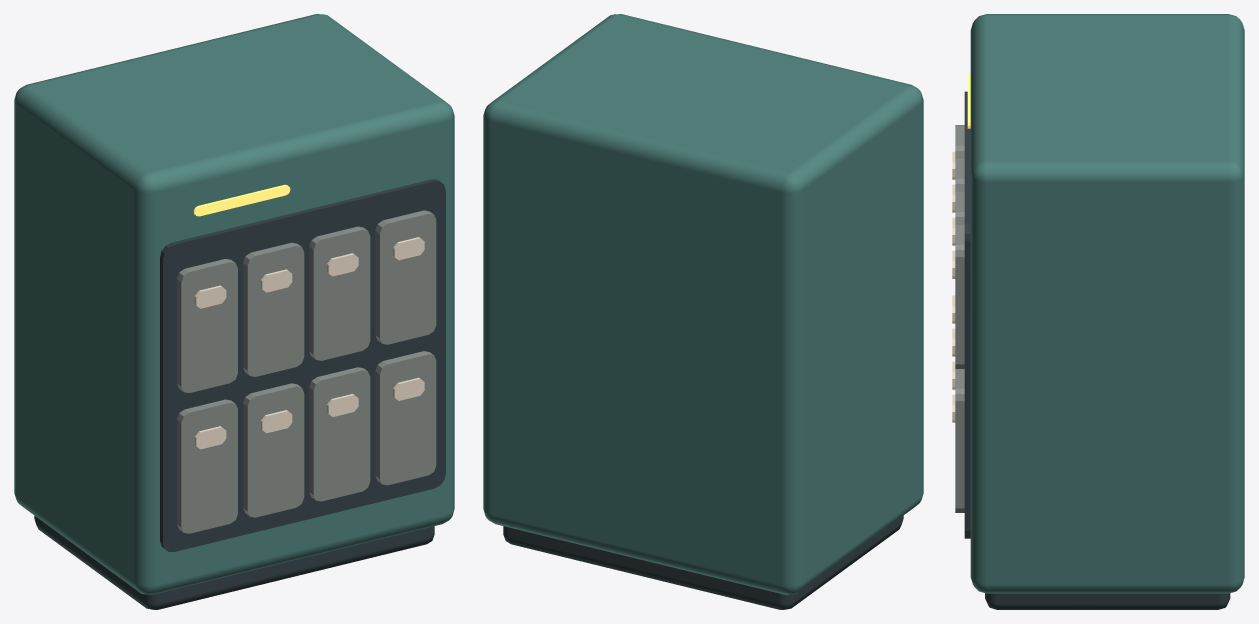
The model's file is kit_storage_array_v1.glb.
3 views of the same model, side by side, from view 1: azimuth 30°, elevation 25°; view 2: azimuth 150°, elevation 25°; view 3: azimuth 270°, elevation 25° (orthographic). The views are drawn at different scales.
Parts seen in each view (by area): view 1: body, status_led; view 2: body; view 3: body.
Boxes of the visible parts, bbox=[...] form: body: bbox=[14, 14, 454, 609]; status_led: bbox=[193, 184, 290, 216]; body: bbox=[483, 14, 923, 609]; body: bbox=[952, 14, 1244, 609].
Bounding box in the file's own units: 0.9 × 1.2 × 0.7.
